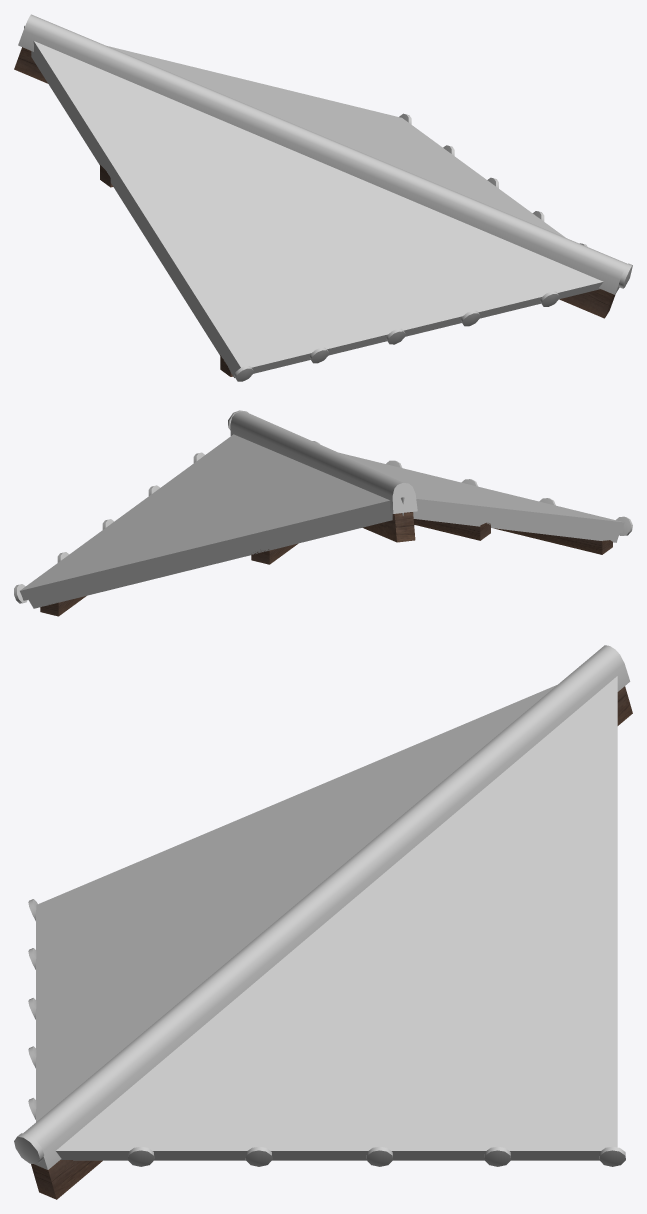
The model's file is kawara_2x2t_a1corner_vex.fbx.
The picture shows the model from 3 angles, top to bottom: view 1: azimuth 30°, elevation 25°; view 2: azimuth 150°, elevation 25°; view 3: azimuth 270°, elevation 25°; orthographic projection. The views are drawn at different scales.
Visible parts, largest first — view 1: kawara_2x2t_a1corner_vex; view 2: kawara_2x2t_a1corner_vex; view 3: kawara_2x2t_a1corner_vex.
Boxes of the visible parts, x1,y1,x2,y2 form: kawara_2x2t_a1corner_vex: (14, 14, 632, 381); kawara_2x2t_a1corner_vex: (14, 410, 632, 616); kawara_2x2t_a1corner_vex: (14, 645, 632, 1199).
Bounding box in the file's own units: 287 × 160 × 288.
